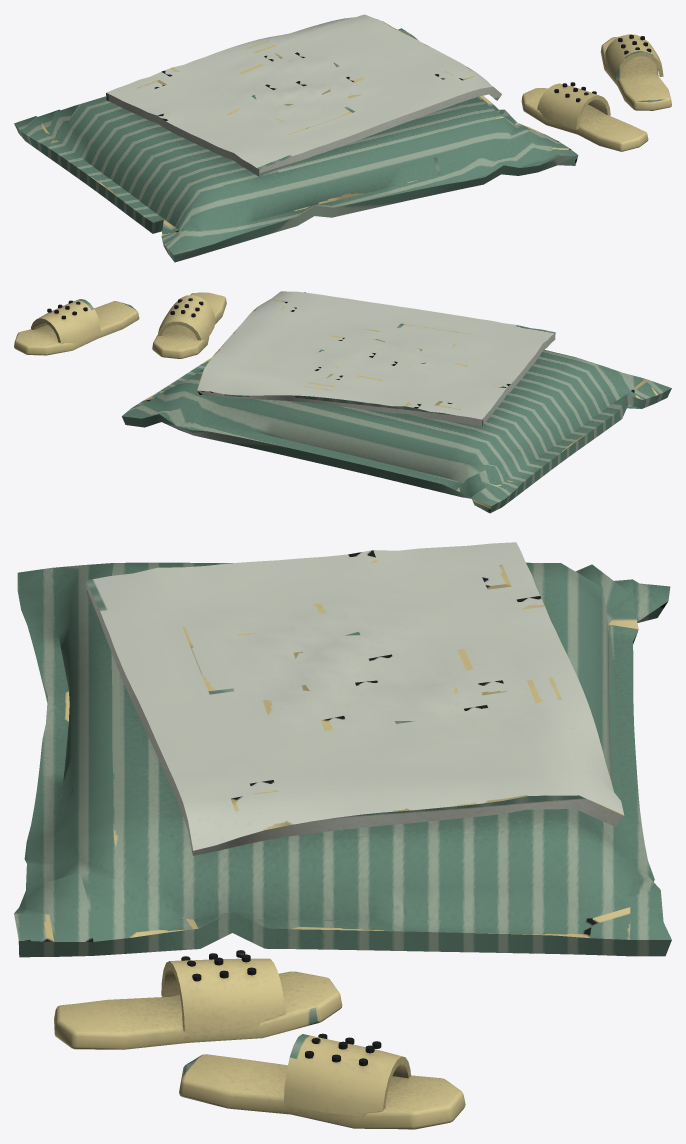
The model's file is CTCC_PROP_Bed4TracesWorking.fbx.
The picture shows the model from 3 angles, top to bottom: view 1: azimuth 30°, elevation 25°; view 2: azimuth 150°, elevation 25°; view 3: azimuth 270°, elevation 25°; orthographic projection. The views are drawn at different scales.
Visible parts, largest first — view 1: Bed4CottonTrace, Bed4RubberTrace; view 2: Bed4CottonTrace, Bed4RubberTrace; view 3: Bed4CottonTrace, Bed4RubberTrace.
Part boxes in pixels (left/top/right/bottom): Bed4CottonTrace: left=14, top=14, right=578, bottom=262; Bed4RubberTrace: left=521, top=34, right=671, bottom=151; Bed4CottonTrace: left=122, top=291, right=671, bottom=513; Bed4RubberTrace: left=14, top=292, right=226, bottom=358; Bed4CottonTrace: left=14, top=542, right=671, bottom=957; Bed4RubberTrace: left=54, top=950, right=465, bottom=1129.
Size of the model in its own units: 0.8064 by 0.0937 by 0.4224.
